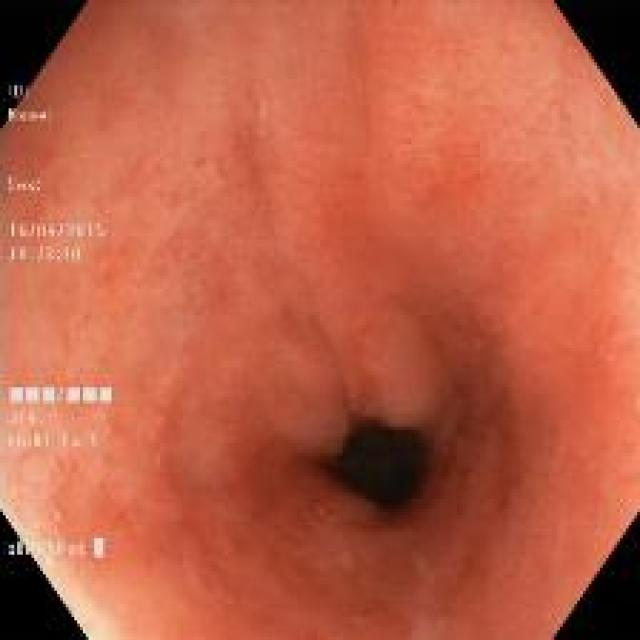ulcerative-colitis-grade-1: (2, 4, 640, 637)
